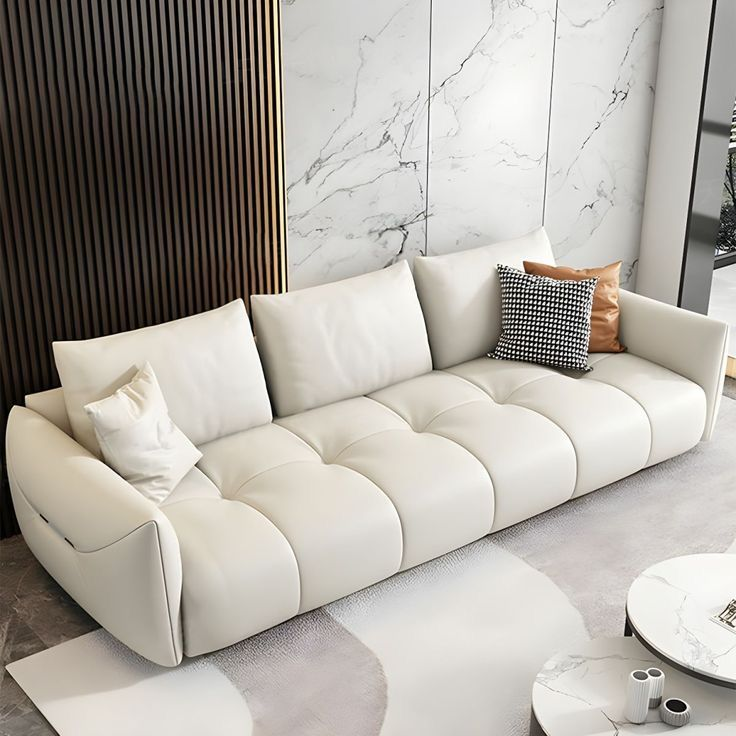3seatersofa: (6, 231, 724, 666)
backrest: (54, 228, 550, 454)
leftarmrest: (621, 292, 724, 439)
pillow: (84, 363, 201, 501), (489, 265, 597, 370), (524, 261, 625, 352)
rightarmrest: (7, 407, 182, 663)
seat: (159, 354, 704, 656)
